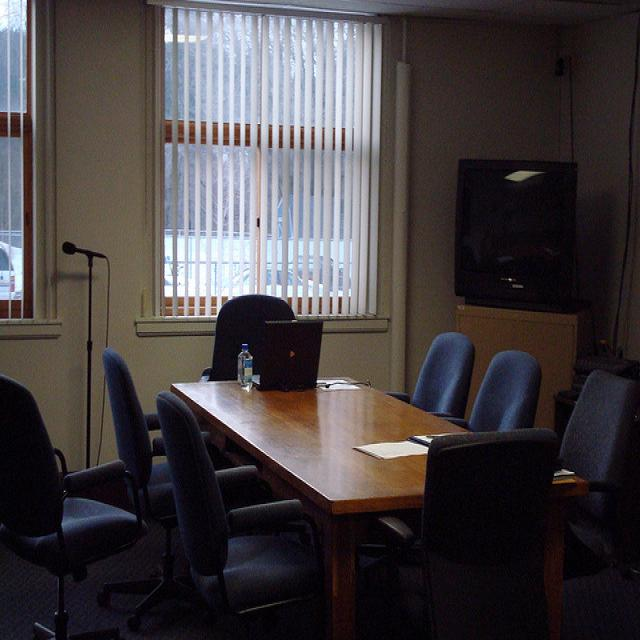Vehicle: (222, 251, 354, 297), (0, 231, 24, 300)
